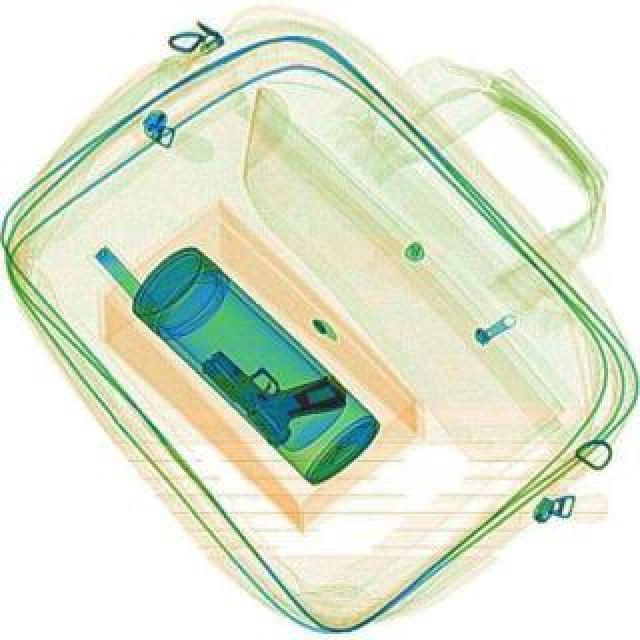gun: (196, 312, 348, 454)
